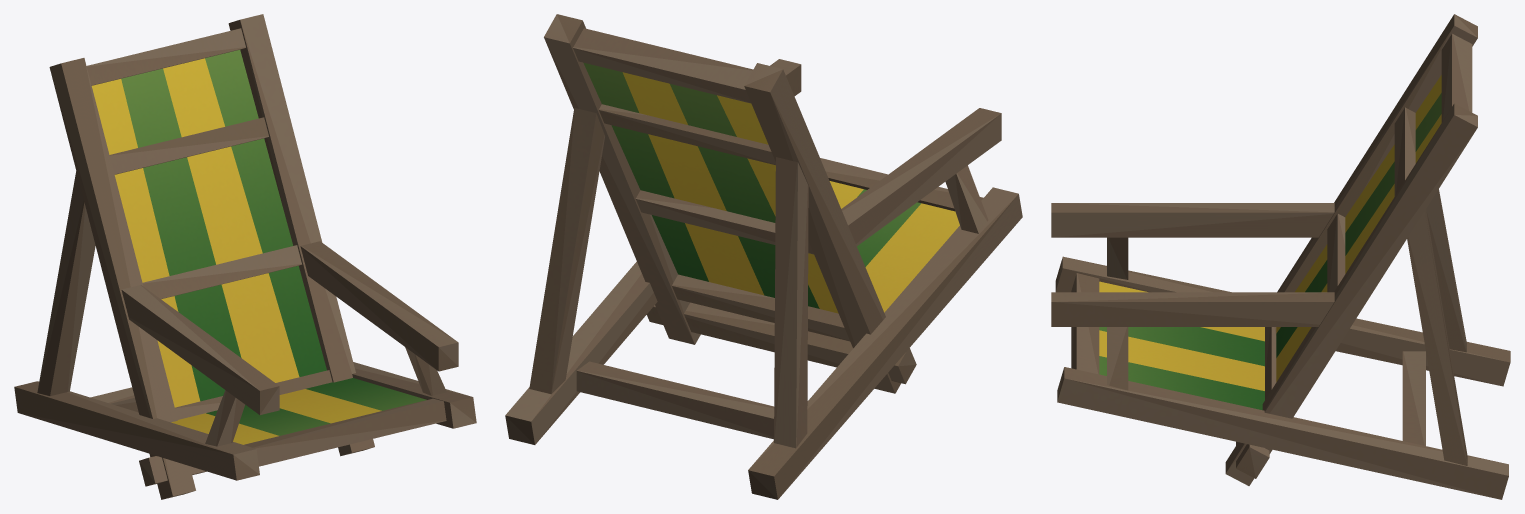
Rendered from Chair_3.fbx.
The picture shows the model from 3 angles, left to right: view 1: azimuth 30°, elevation 25°; view 2: azimuth 150°, elevation 25°; view 3: azimuth 270°, elevation 25°; orthographic projection. The views are drawn at different scales.
Parts seen in each view (by area): view 1: polySurface178; view 2: polySurface178; view 3: polySurface178.
Part boxes in pixels (x1=…): polySurface178: x1=14, y1=14, x2=476, y2=499; polySurface178: x1=505, y1=14, x2=1022, y2=499; polySurface178: x1=1051, y1=14, x2=1510, y2=499.
Size of the model in its own units: 155 by 226 by 251.
